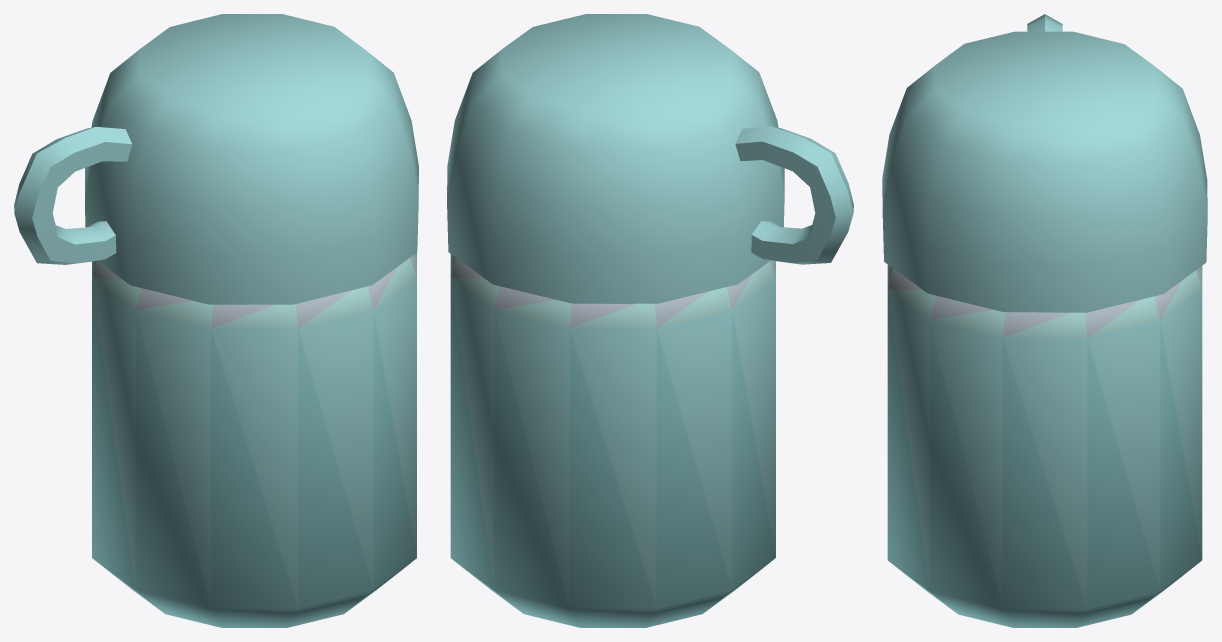
The model's file is itch_tiny_pleasant_picnic_thermos.glb.
3 views of the same model, side by side, from view 1: azimuth 30°, elevation 25°; view 2: azimuth 150°, elevation 25°; view 3: azimuth 270°, elevation 25° (orthographic). The views are drawn at different scales.
Parts seen in each view (by area): view 1: thermos, thermos_lid; view 2: thermos, thermos_lid; view 3: thermos, thermos_lid.
Part boxes in pixels (x1=…): thermos: x1=92, y1=253, x2=416, y2=627; thermos_lid: x1=14, y1=14, x2=418, y2=304; thermos: x1=450, y1=254, x2=775, y2=627; thermos_lid: x1=447, y1=14, x2=853, y2=303; thermos: x1=887, y1=265, x2=1202, y2=627; thermos_lid: x1=882, y1=14, x2=1207, y2=312.
Size of the model in its own units: 0.96 by 1.23 by 0.7295.
